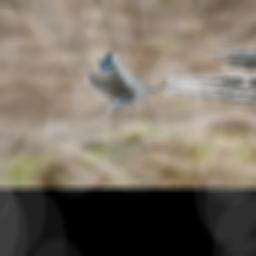Swallow: (67, 48, 178, 130)
